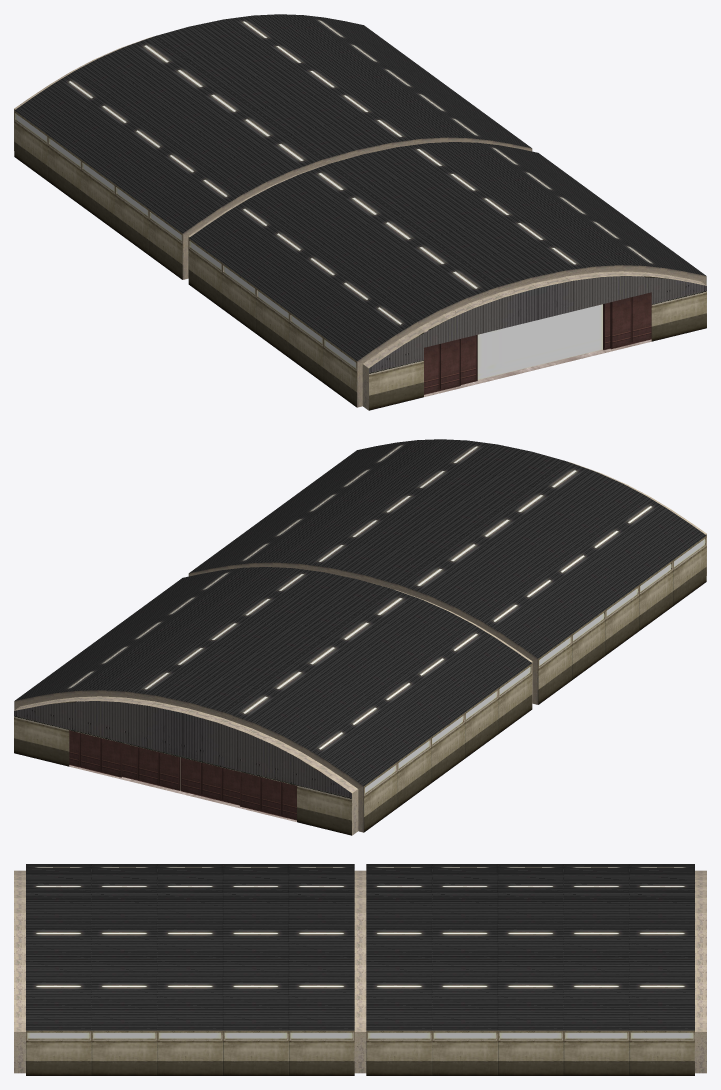
File: Hangar.fbx
The picture shows the model from 3 angles, top to bottom: view 1: azimuth 30°, elevation 25°; view 2: azimuth 150°, elevation 25°; view 3: azimuth 270°, elevation 25°; orthographic projection. The views are drawn at different scales.
Parts seen in each view (by area): view 1: Hangar, WindowsLightLarge, WindowsLight04, WindowsLight03; view 2: Hangar, WindowsLight03, WindowsLight04; view 3: Hangar, WindowsLight01, WindowsLight02.
Boxes of the visible parts, bbox=[...] form: Hangar: bbox=[14, 14, 706, 410]; WindowsLightLarge: bbox=[477, 304, 602, 379]; WindowsLight04: bbox=[15, 114, 181, 240]; WindowsLight03: bbox=[190, 241, 355, 368]; Hangar: bbox=[14, 439, 706, 835]; WindowsLight03: bbox=[539, 539, 705, 665]; WindowsLight04: bbox=[365, 667, 530, 793]; Hangar: bbox=[14, 864, 706, 1075]; WindowsLight01: bbox=[368, 1032, 693, 1038]; WindowsLight02: bbox=[27, 1032, 352, 1038].
Size of the model in its own units: 5999 by 1603 by 10540.
